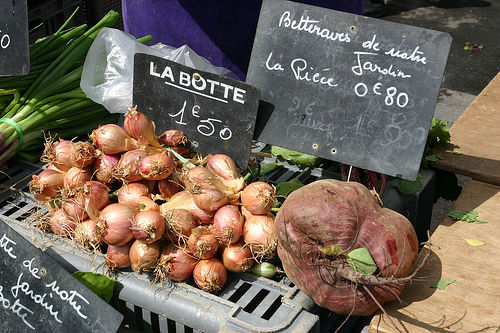onion: (86, 123, 140, 157), (129, 206, 167, 243), (42, 138, 85, 170), (244, 214, 275, 258), (192, 256, 227, 292)
